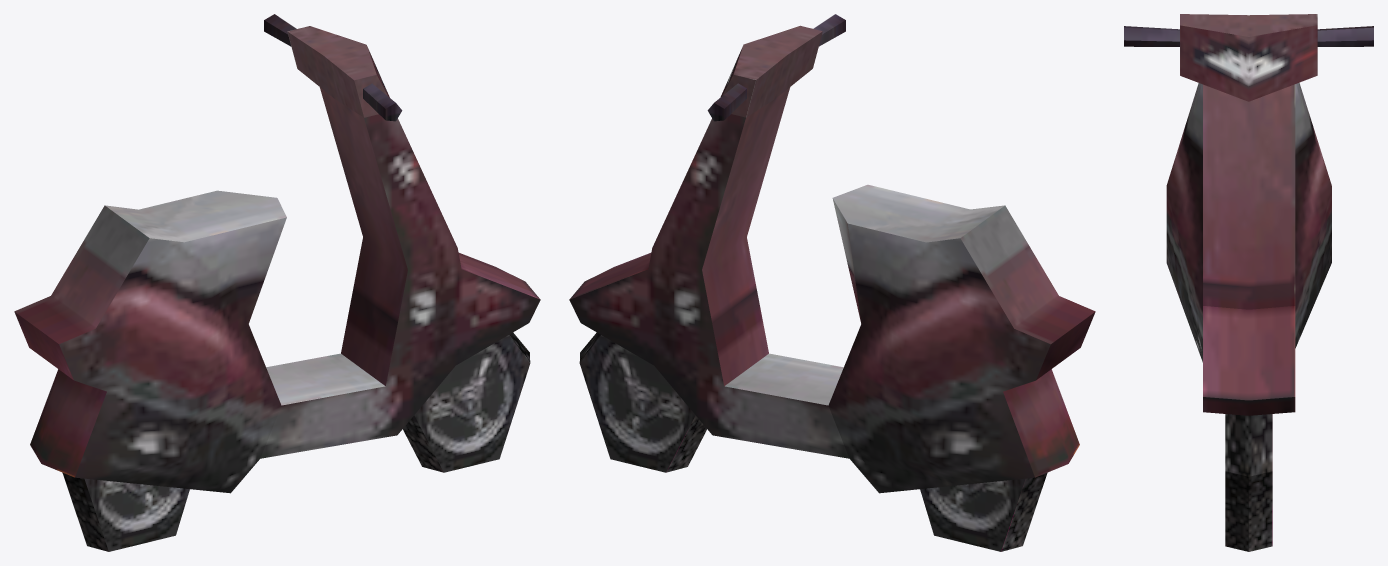
Rendered from Shared - Ground Vehicles - C Vscooter - CVscooter.glb.
3 renders of one model, left to right at view 1: azimuth 30°, elevation 25°; view 2: azimuth 150°, elevation 25°; view 3: azimuth 270°, elevation 25°, orthographic. The views are drawn at different scales.
Visible parts, largest first — view 1: CVSCOOTER; view 2: CVSCOOTER; view 3: CVSCOOTER.
Part boxes in pixels (x1=…): CVSCOOTER: x1=14, y1=14, x2=540, y2=551; CVSCOOTER: x1=569, y1=14, x2=1095, y2=551; CVSCOOTER: x1=1124, y1=14, x2=1373, y2=551.
Size of the model in its own units: 9.12 by 7.7 by 3.89.
1 material, 1 textured.
